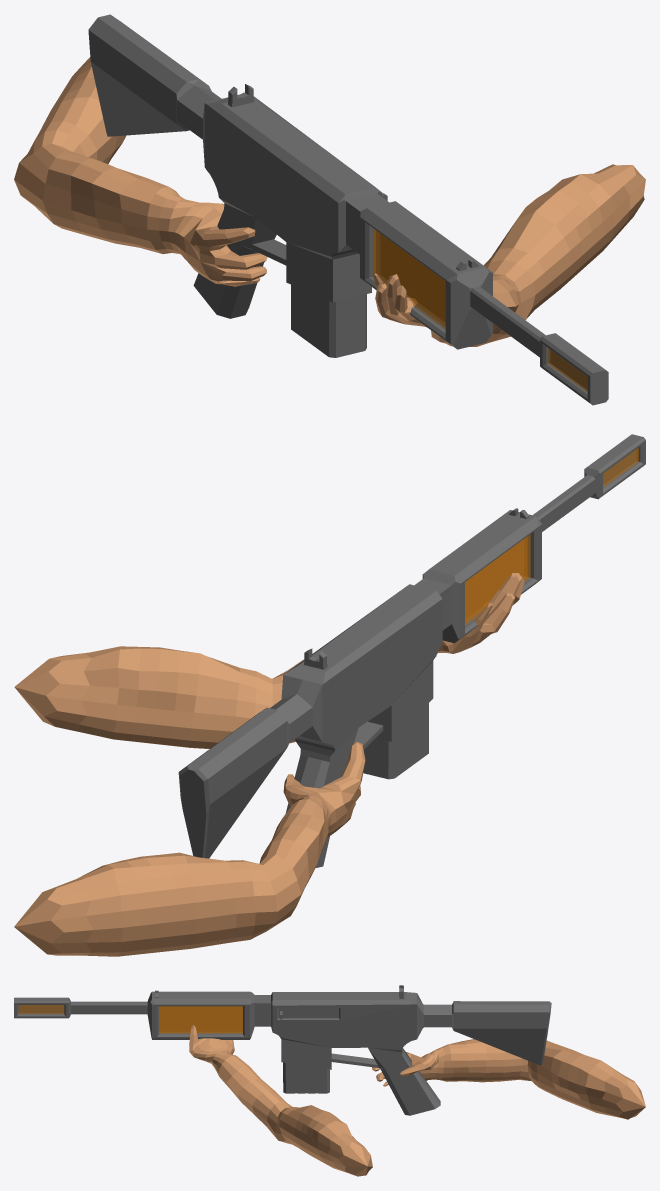
File: PlasmaGunV7.fbx
3 views of the same model, one above another, from view 1: azimuth 30°, elevation 25°; view 2: azimuth 150°, elevation 25°; view 3: azimuth 270°, elevation 25° (orthographic). The views are drawn at different scales.
Parts seen in each view (by area): view 1: GUN BASE, Cube, Cube.001, GUN BASE.003; view 2: GUN BASE, Cube, Cube.001, GUN BASE.003; view 3: GUN BASE, Cube, Cube.001, GUN BASE.003, GUN BASE.002.
Part boxes in pixels (x1,y1,x2,y2): GUN BASE: [88, 14, 608, 405]; Cube: [14, 57, 267, 286]; Cube.001: [372, 164, 645, 346]; GUN BASE.003: [373, 228, 587, 392]; GUN BASE: [178, 434, 645, 867]; Cube: [14, 741, 365, 956]; Cube.001: [14, 573, 524, 748]; GUN BASE.003: [465, 448, 638, 625]; GUN BASE: [14, 985, 551, 1115]; Cube: [372, 1039, 645, 1119]; Cube.001: [189, 1025, 372, 1176]; GUN BASE.003: [18, 1005, 242, 1033]; GUN BASE.002: [278, 1008, 338, 1019].
Bounding box in the file's own units: 214 × 104 × 473.
